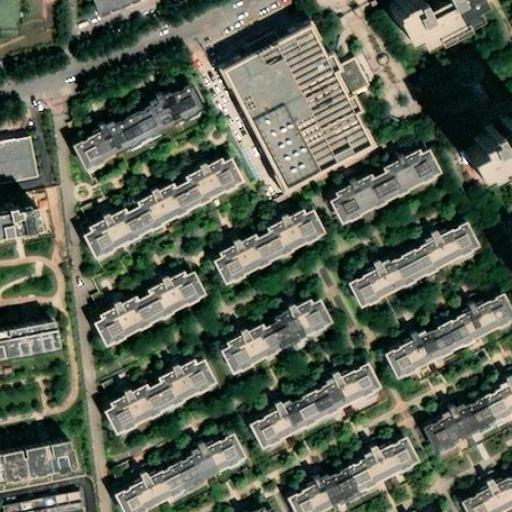building: (222, 30, 379, 199), (86, 171, 245, 272), (350, 236, 478, 322), (251, 377, 379, 462), (386, 306, 512, 392), (75, 102, 203, 185), (99, 369, 218, 449), (328, 159, 443, 239), (219, 307, 335, 385), (92, 286, 208, 364), (117, 447, 246, 512), (214, 222, 325, 297), (290, 449, 419, 512), (427, 385, 512, 467), (0, 448, 82, 492), (452, 135, 512, 193), (91, 0, 185, 35), (471, 484, 512, 512)
